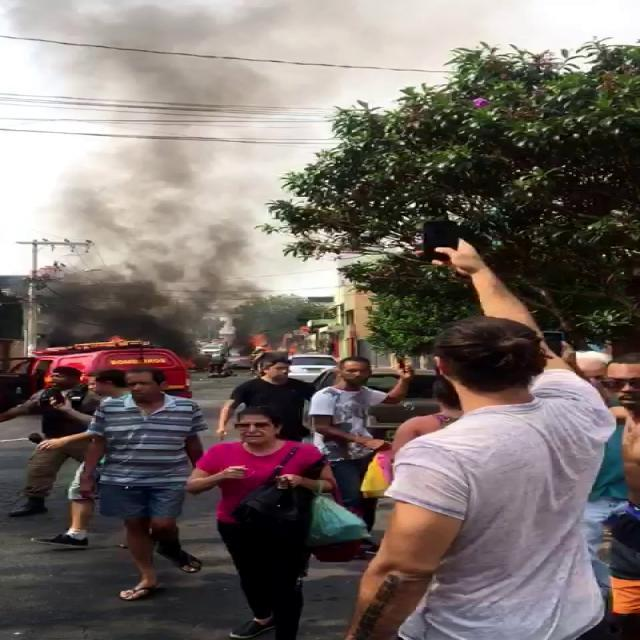Smoke: (0, 0, 282, 300)
